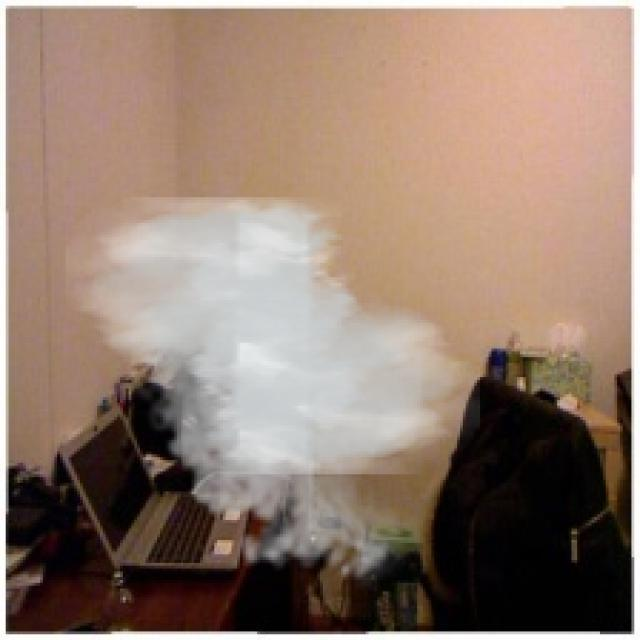Smoke: (66, 197, 480, 592)
